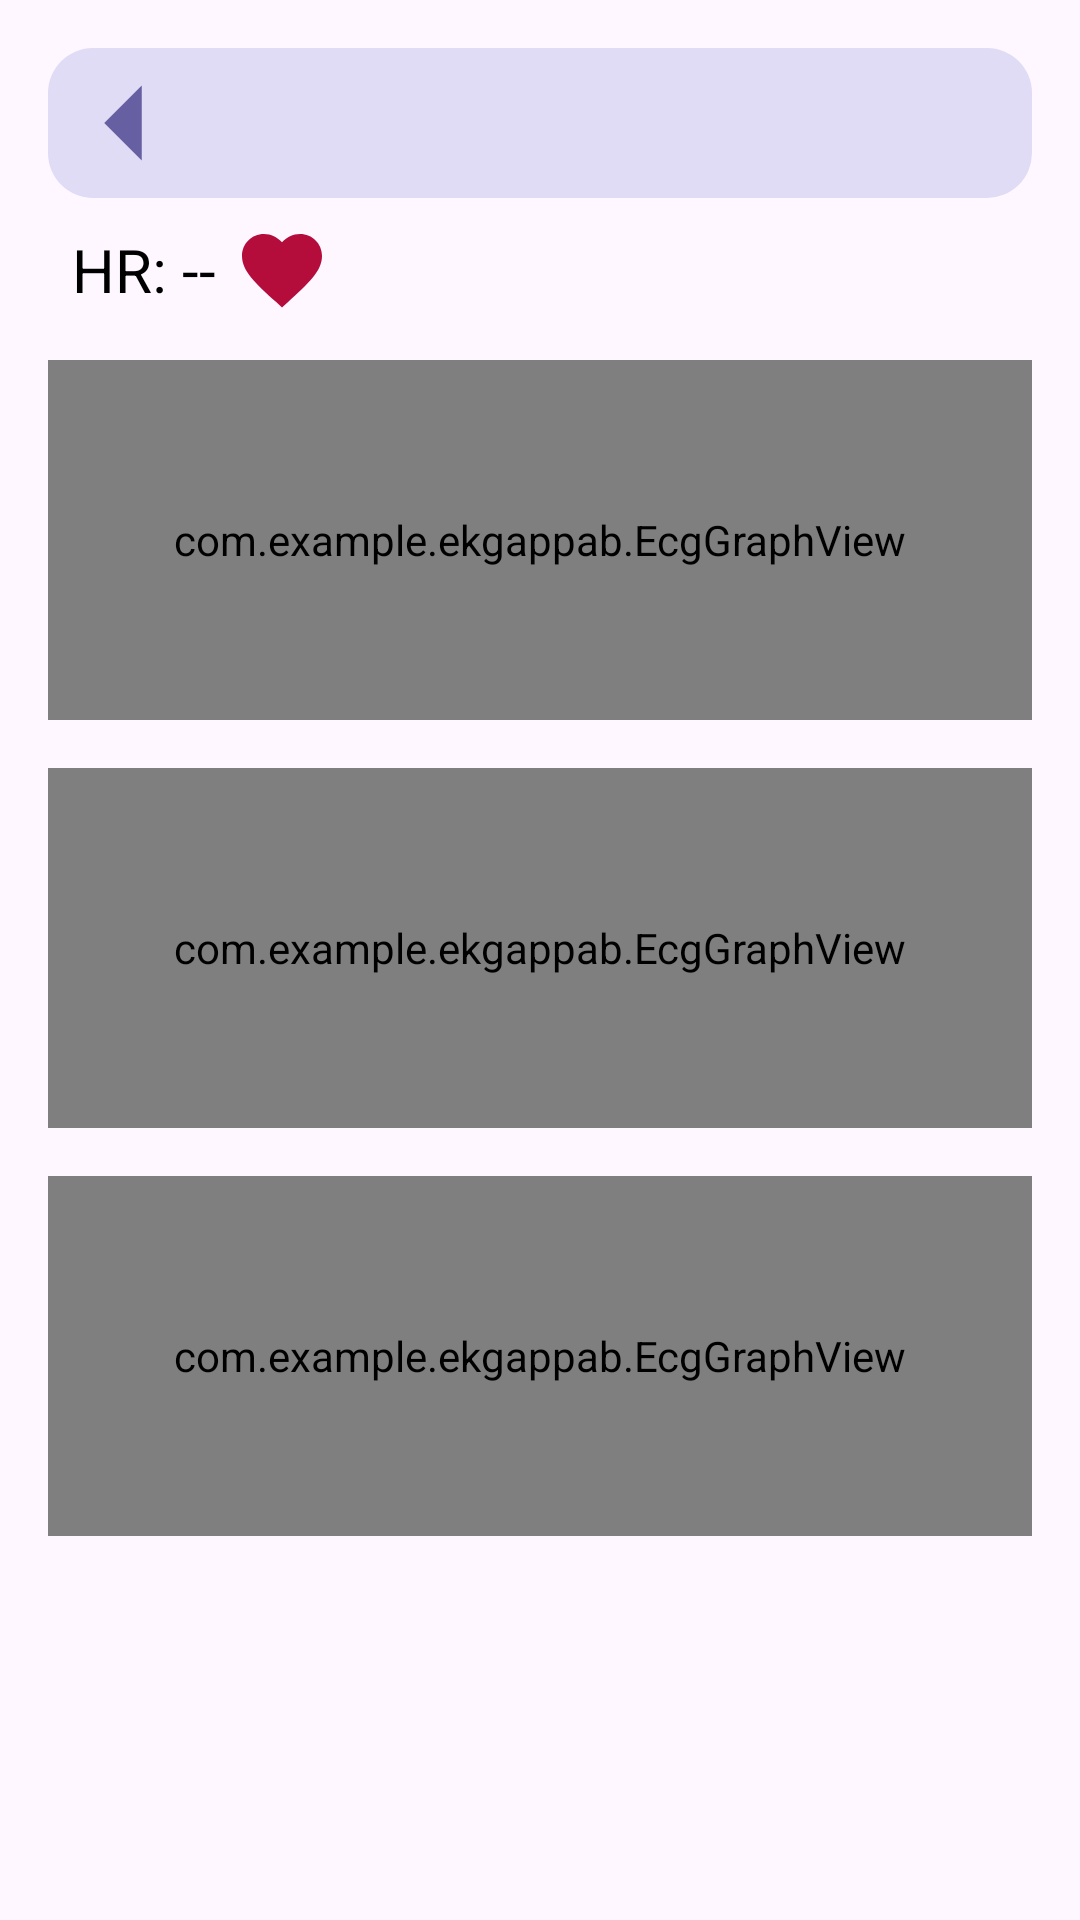

Icons on this 1080px x 1920px Android screen, each with its box as (x1, y1, x2, y2):
heart: (242, 234, 322, 308)
Назад: (48, 48, 198, 198)
